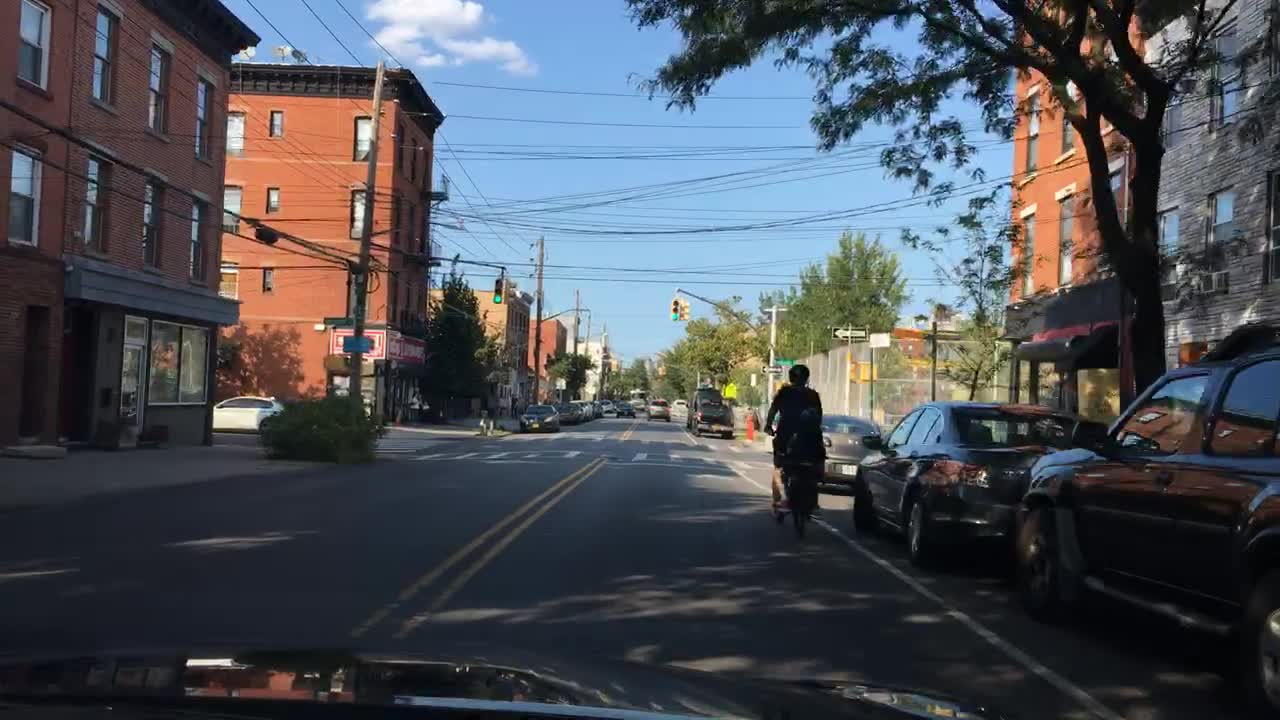bike: (760, 422, 834, 532)
car: (1007, 318, 1276, 701), (852, 399, 1109, 563), (816, 413, 884, 487), (206, 392, 284, 432), (687, 387, 735, 432), (690, 402, 735, 435), (520, 403, 561, 431), (552, 403, 584, 427), (645, 398, 673, 421), (572, 401, 594, 422), (615, 402, 638, 417), (589, 401, 605, 420), (669, 397, 690, 411), (598, 397, 613, 415), (627, 399, 645, 410), (610, 397, 622, 411)
person: (778, 404, 830, 481)
rider: (762, 363, 827, 516)
traffic light: (318, 351, 350, 375), (852, 360, 880, 387), (340, 334, 372, 353), (490, 276, 502, 304), (506, 277, 518, 305), (670, 296, 681, 322), (552, 374, 568, 390), (681, 298, 691, 322), (749, 371, 760, 390), (660, 364, 669, 378)
traffic sign: (826, 325, 868, 343), (721, 381, 740, 401), (765, 355, 796, 367), (759, 364, 786, 376)
